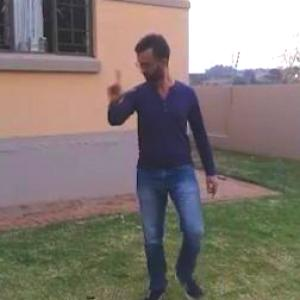land_hand: (99, 60, 133, 101)
